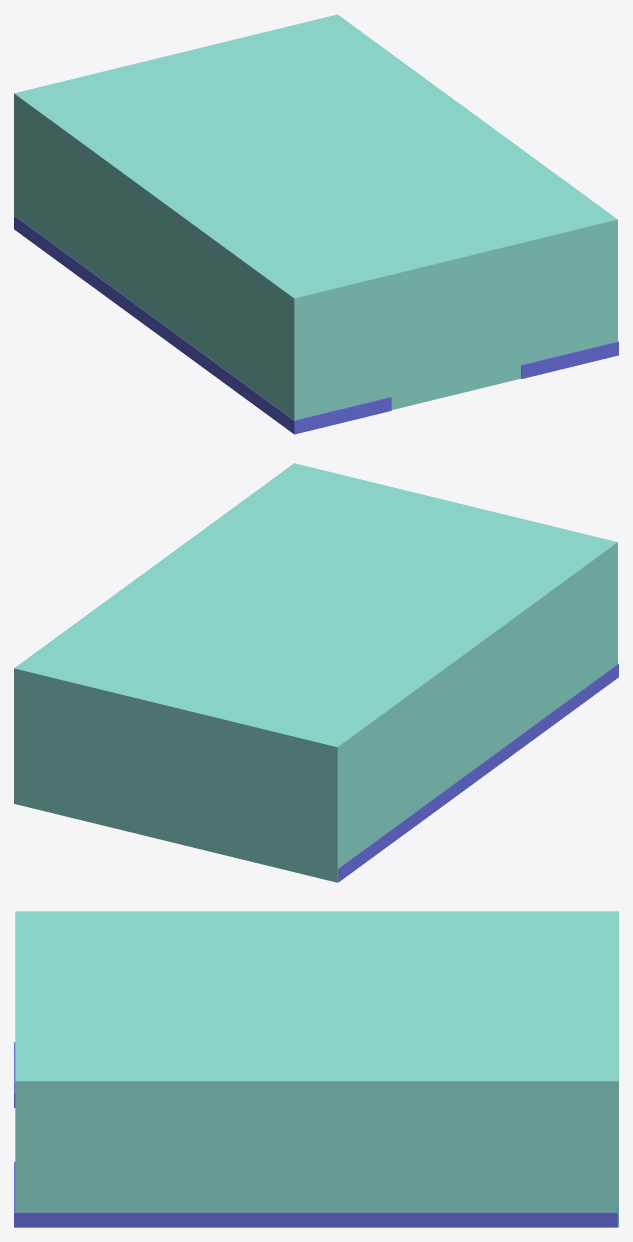
The model's file is Station.FBX.
The picture shows the model from 3 angles, top to bottom: view 1: azimuth 30°, elevation 25°; view 2: azimuth 150°, elevation 25°; view 3: azimuth 270°, elevation 25°; orthographic projection. The views are drawn at different scales.
Visible parts, largest first — view 1: Box01, Box03, Box02; view 2: Box01, Box03; view 3: Box01, Box02.
Boxes of the visible parts, x1,y1,x2,y2 form: Box01: [14, 14, 617, 420]; Box03: [14, 216, 391, 434]; Box02: [521, 341, 618, 378]; Box01: [14, 463, 617, 882]; Box03: [338, 663, 618, 882]; Box01: [15, 911, 618, 1227]; Box02: [14, 1162, 617, 1227].
Bounding box in the file's own units: 137 × 206 × 54.71.
